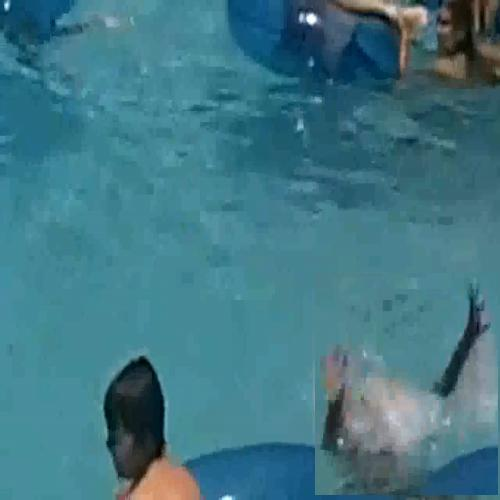drowning: (315, 273, 499, 496)
swimming: (77, 318, 202, 499)
